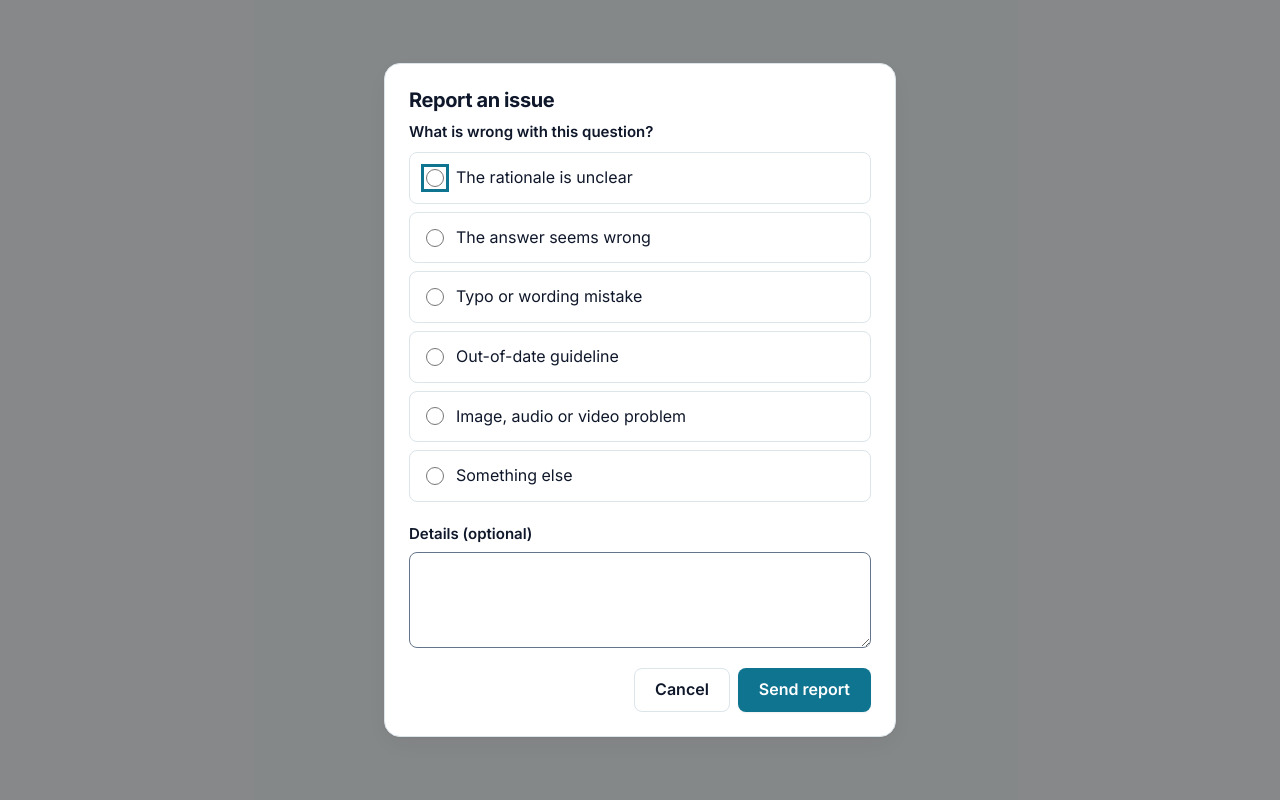
Test: ReportIssueDialog › sends the reason, the details and the attempt, then thanks the candidate
Click the radio button labelled "The answer seems wrong" at (435, 238), box [426,229,444,247]
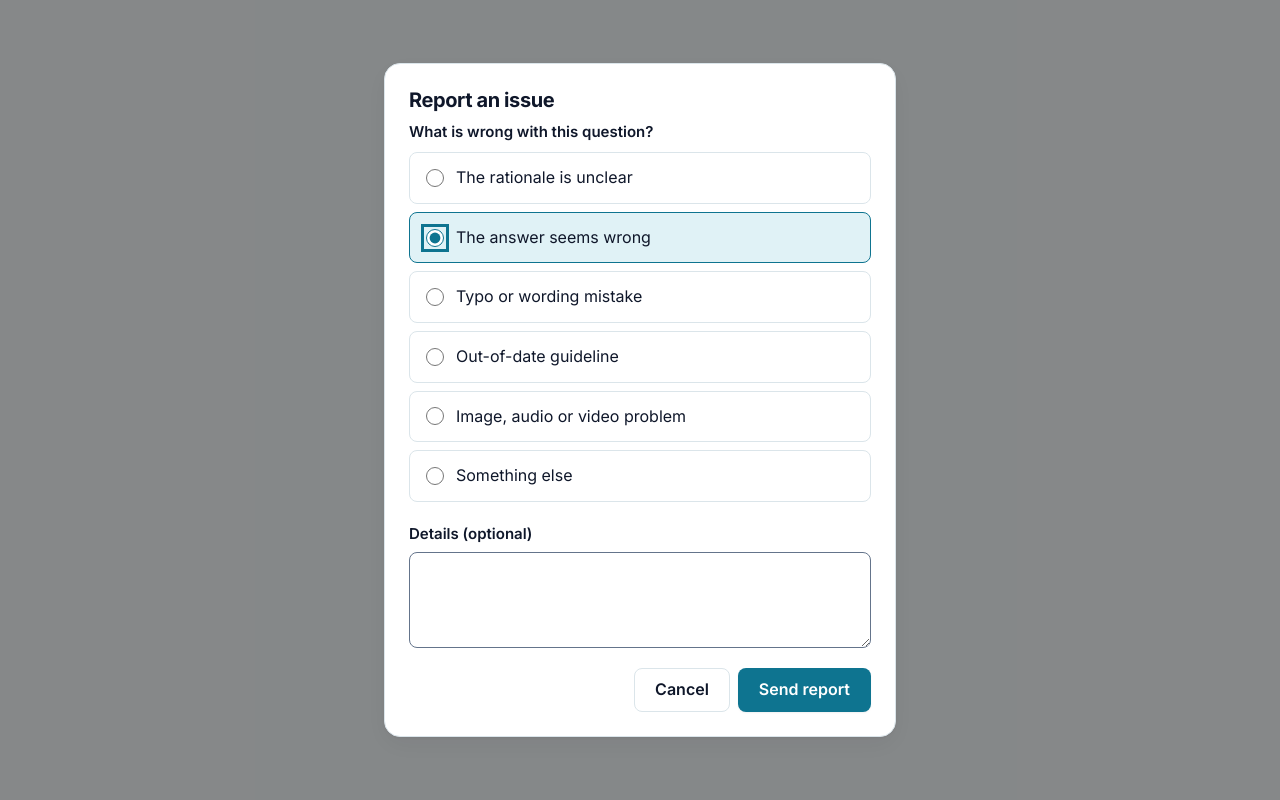
Type "C is also right." into the text box labelled "Details (optional)" at (640, 600), box [409,552,871,648]
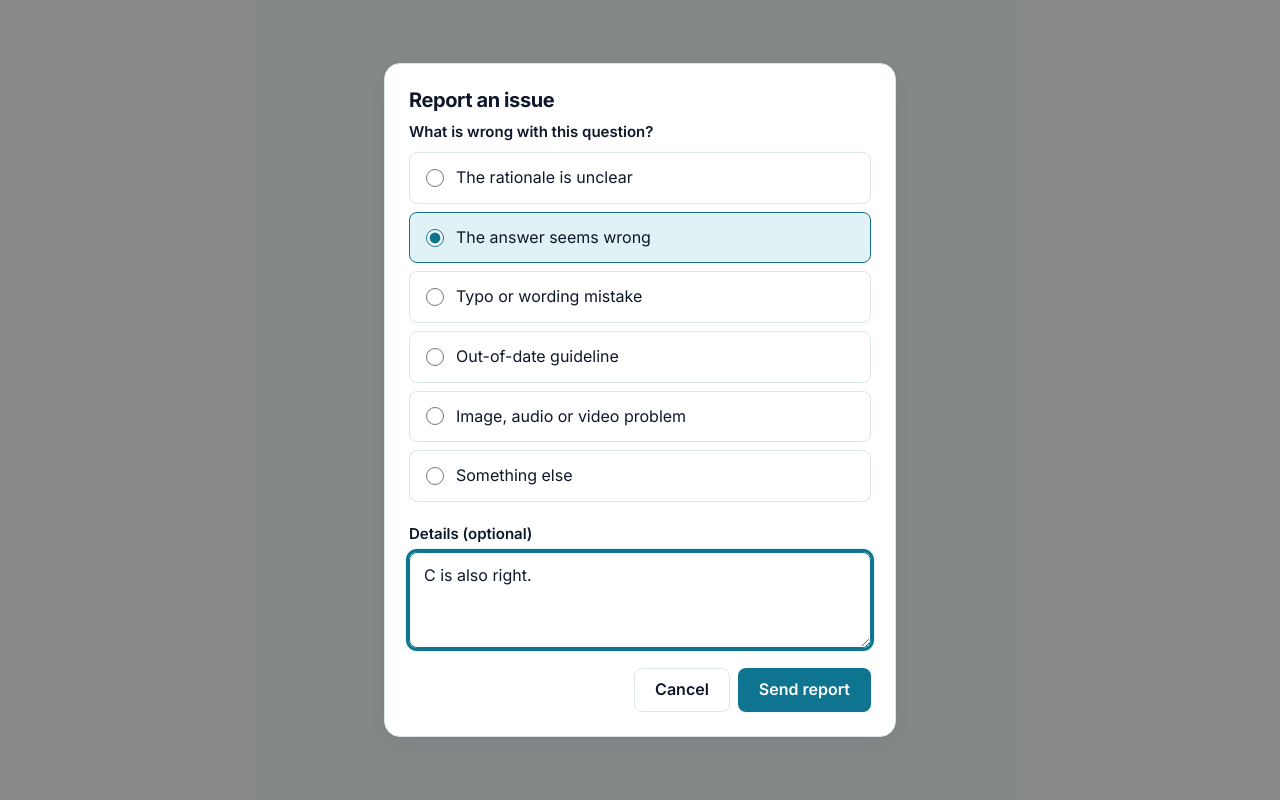
Click the button "Send report" at (804, 690), box [738,668,871,712]
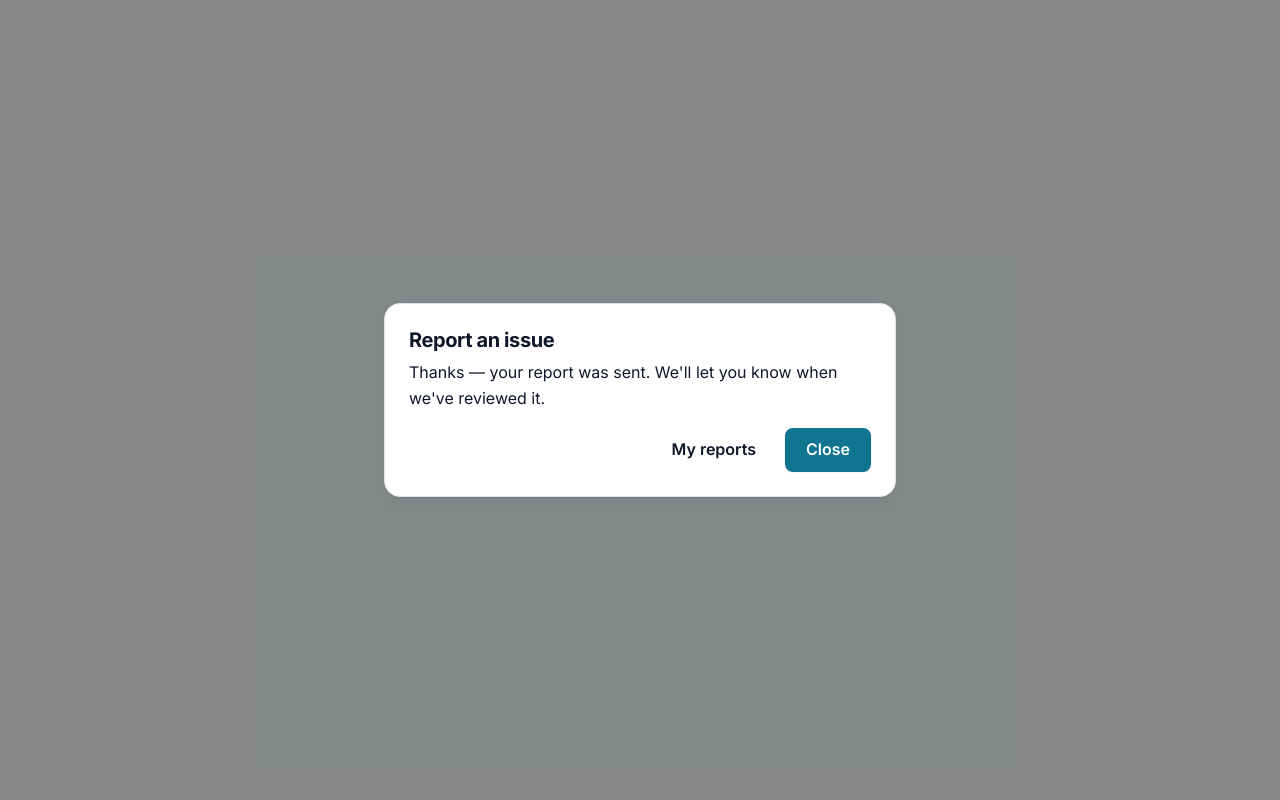
Check: the message shows "your report was sent", box [409,362,838,408]
